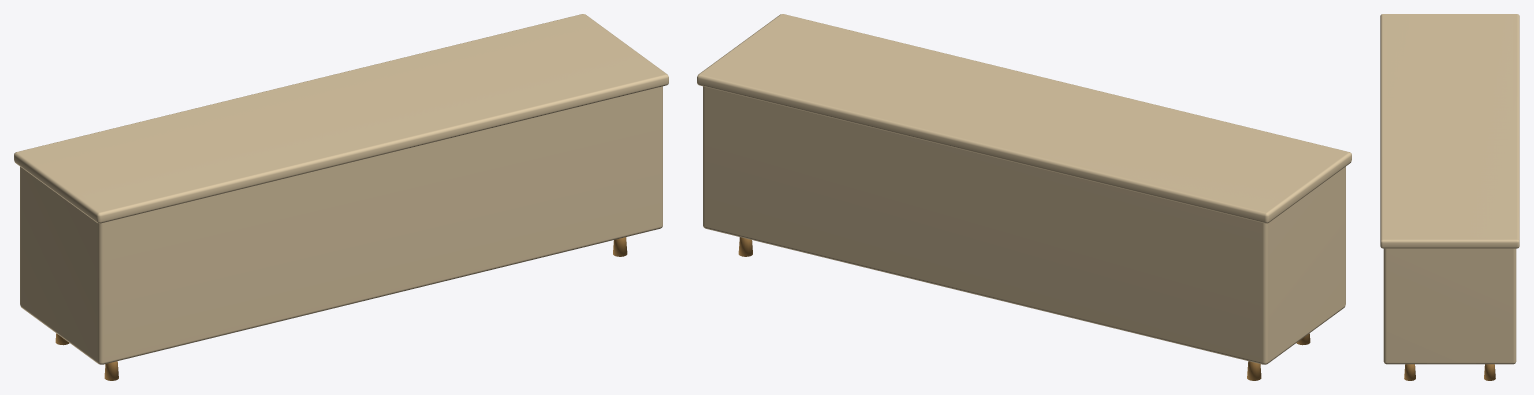
Rendered from tv_console.glb.
3 renders of one model, left to right at view 1: azimuth 30°, elevation 25°; view 2: azimuth 150°, elevation 25°; view 3: azimuth 270°, elevation 25°, orthographic. The views are drawn at different scales.
Parts seen in each view (by area): view 1: body; view 2: body; view 3: body.
Boxes of the visible parts, x1,y1,x2,y2 form: body: (14, 14, 668, 380); body: (697, 14, 1351, 380); body: (1380, 14, 1519, 380).
Size of the model in its own units: 1.62 by 0.5 by 0.42.
